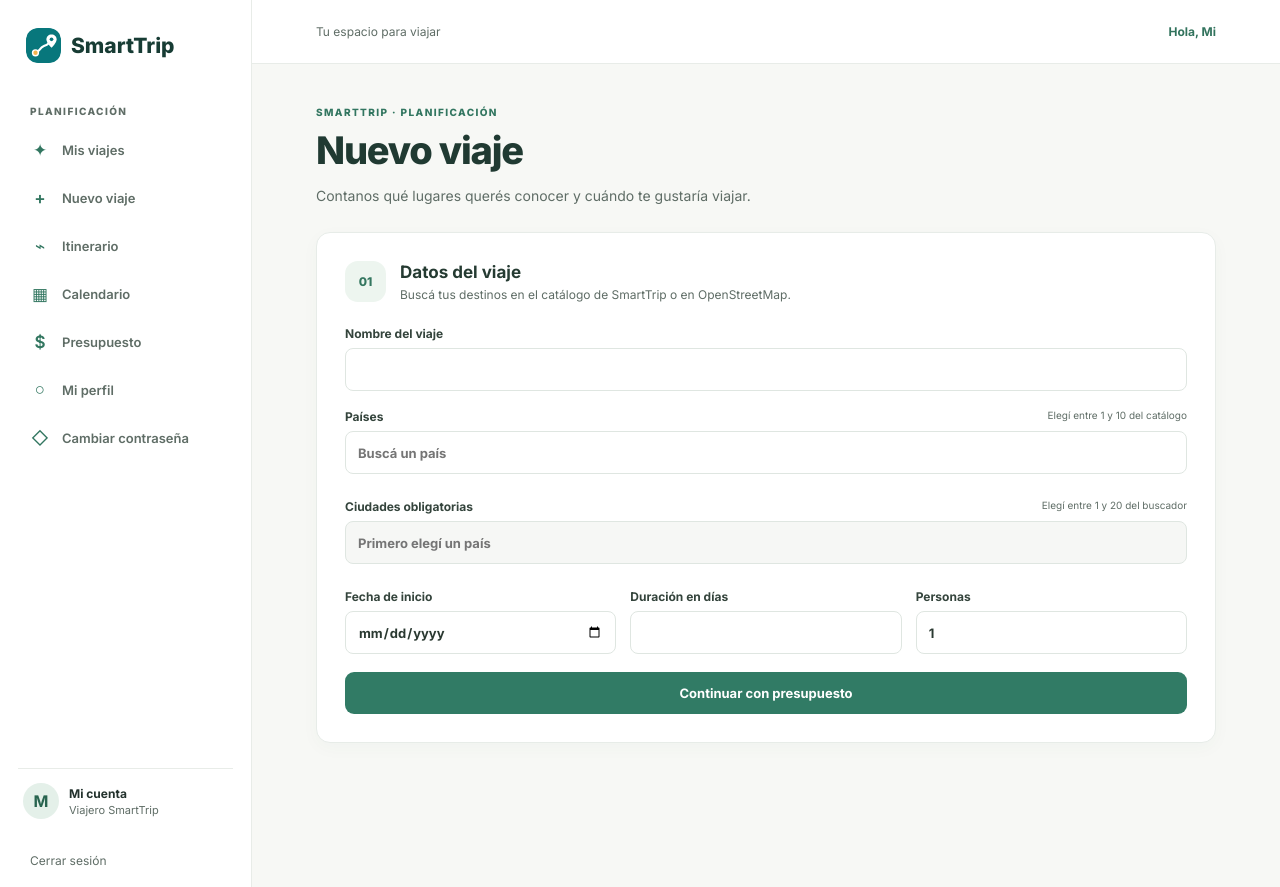
Scenario: NewTrip: validación y creación › no crea un viaje sin ciudades
The width and height of the screenshot is (1280, 887).
Type "Fra" into the field named "Buscar país" at (766, 452), box top-left (345, 431), bottom-right (1187, 474)
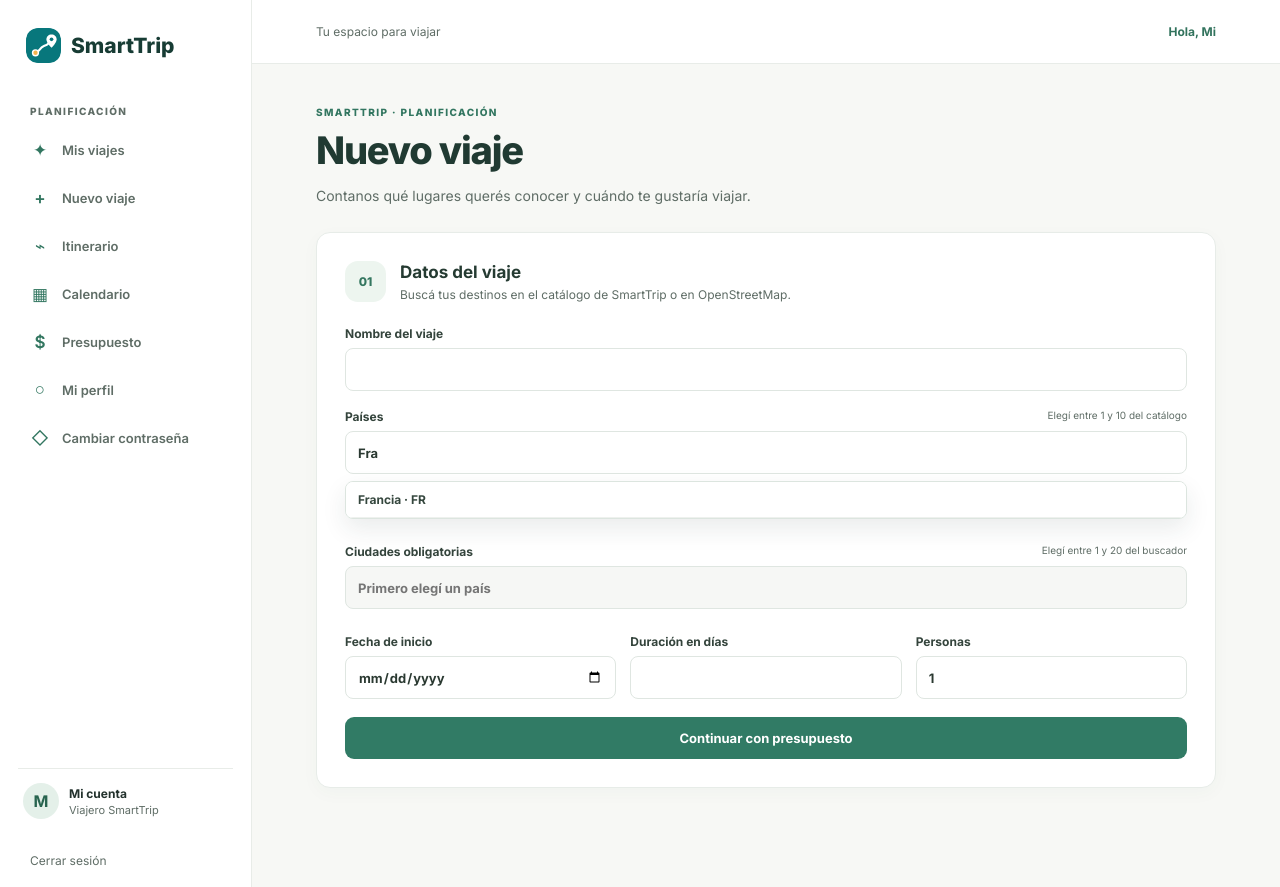
Click the option "Francia · FR" at (380, 500), box top-left (346, 482), bottom-right (1186, 518)
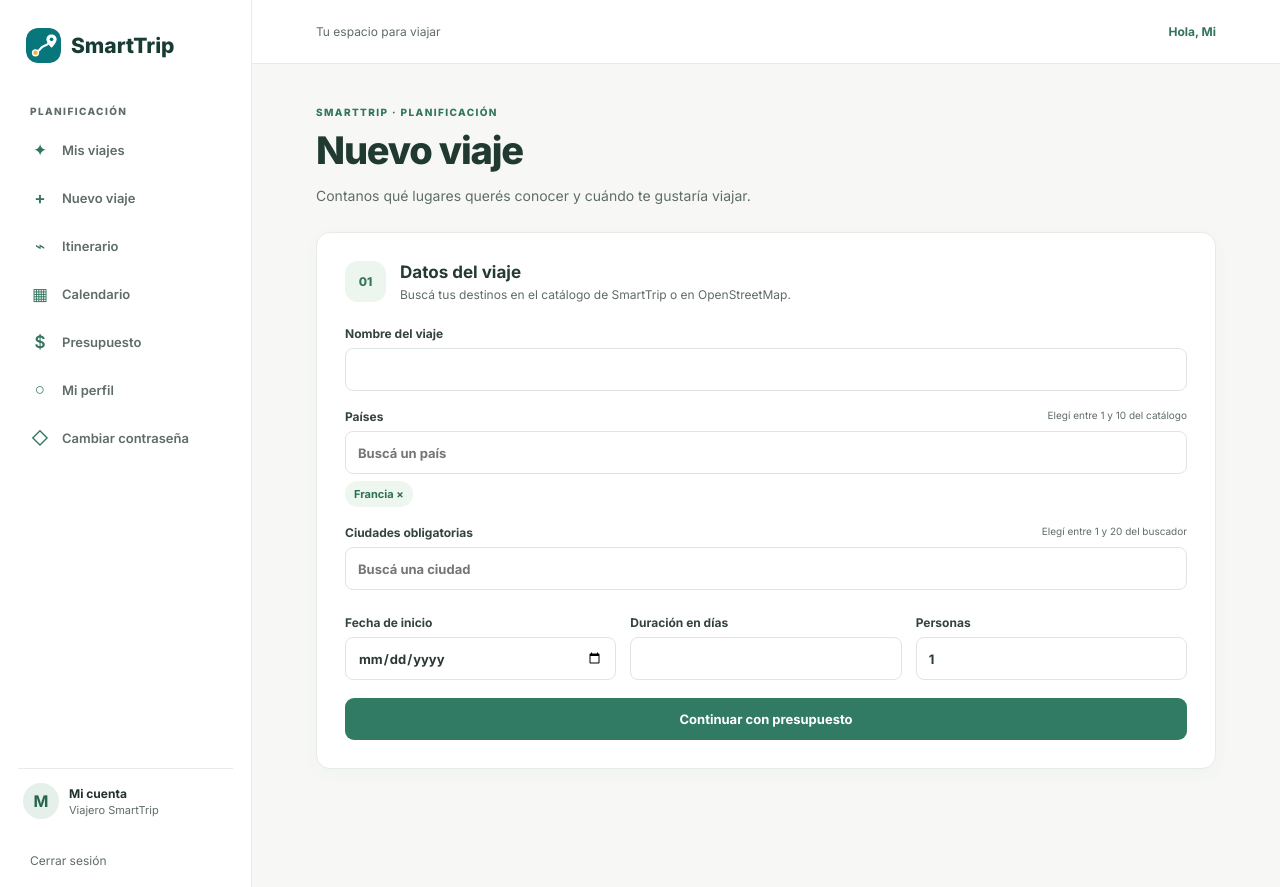
Type "  Europa  " into the field labelled "Nombre del viaje" at (766, 370), box top-left (345, 348), bottom-right (1187, 391)
Type "2030-05-01" into the date field labelled "Fecha de inicio" at (481, 658), box top-left (345, 637), bottom-right (616, 680)
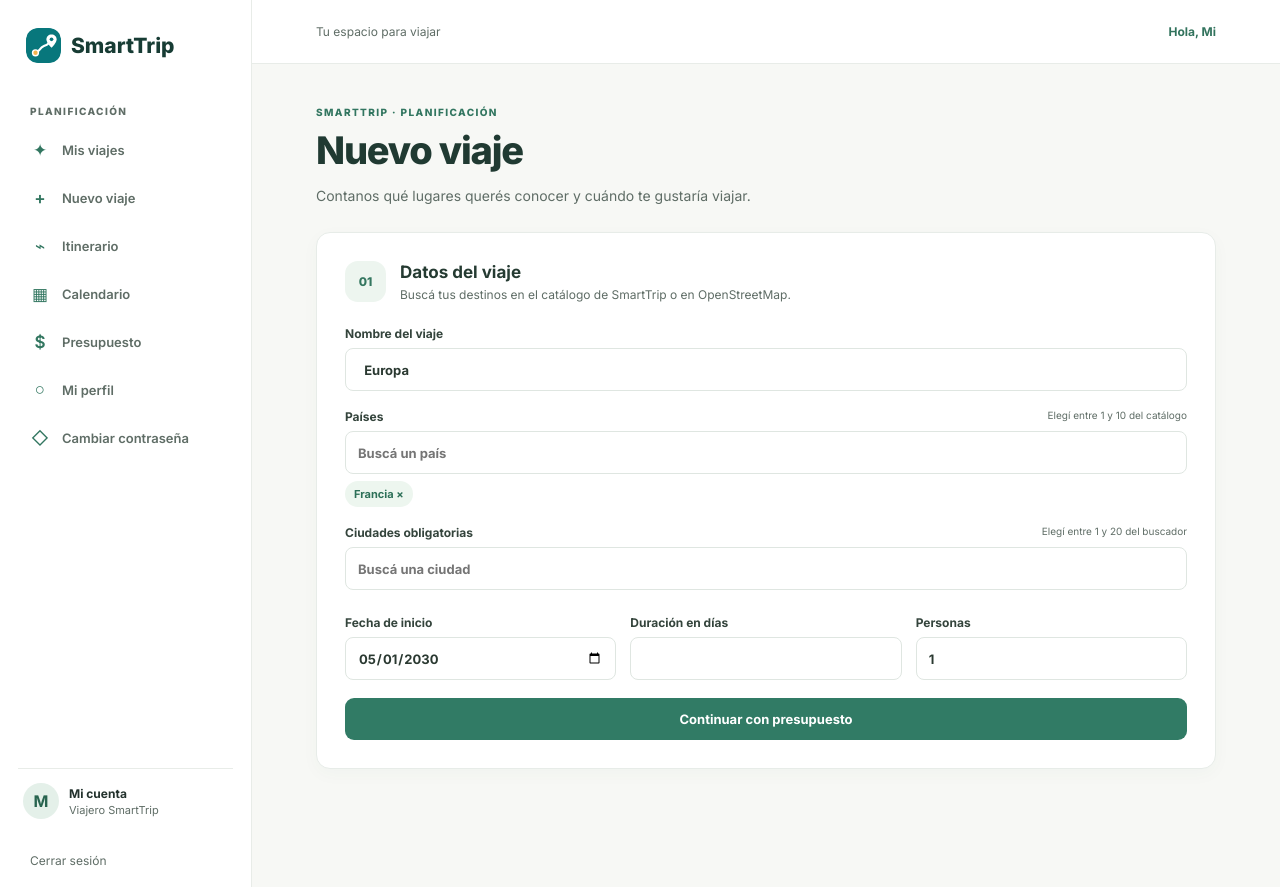
Type "5" into the number field labelled "Duración en días" at (766, 658), box top-left (630, 637), bottom-right (902, 680)
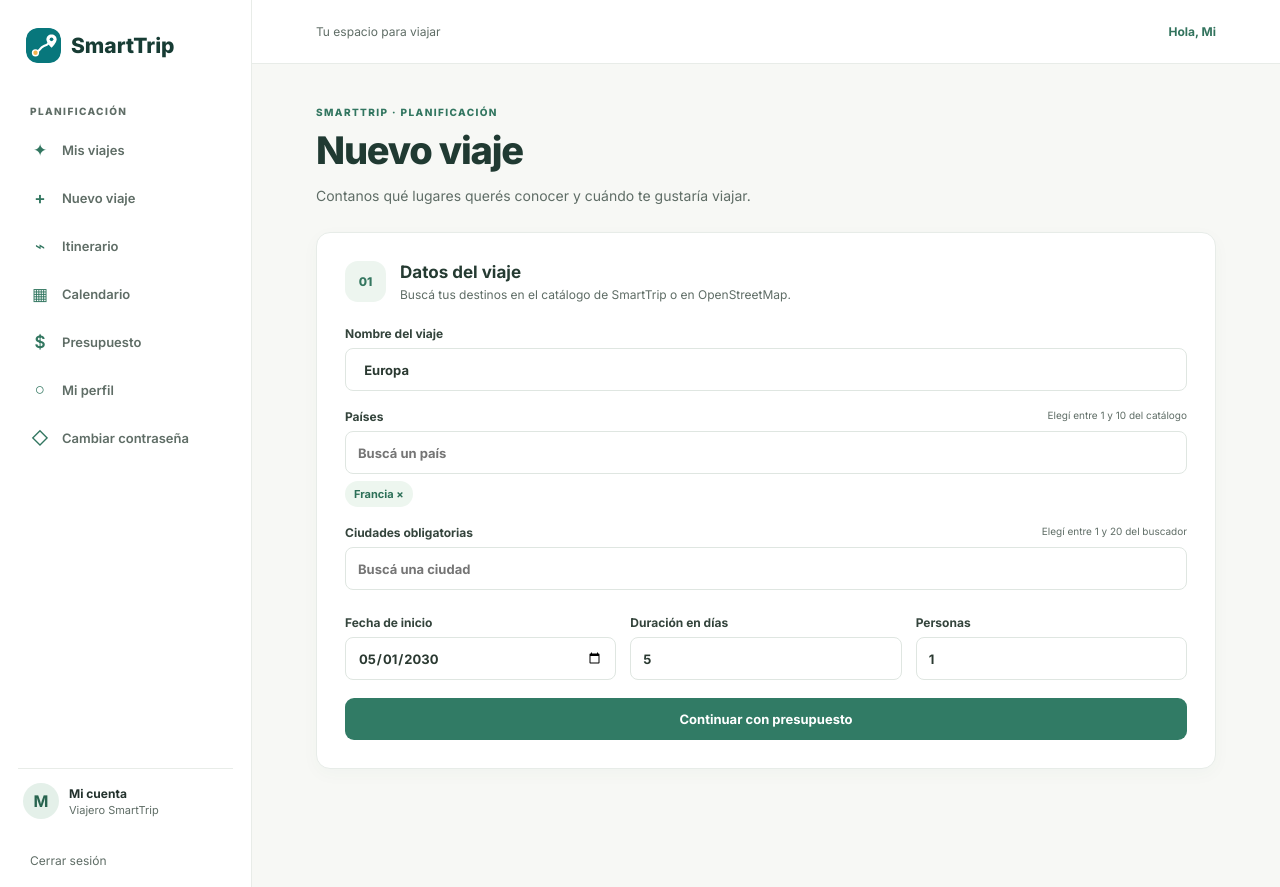
Replace the text in the number field labelled "Personas" with "3" at (1051, 658), box top-left (916, 637), bottom-right (1187, 680)
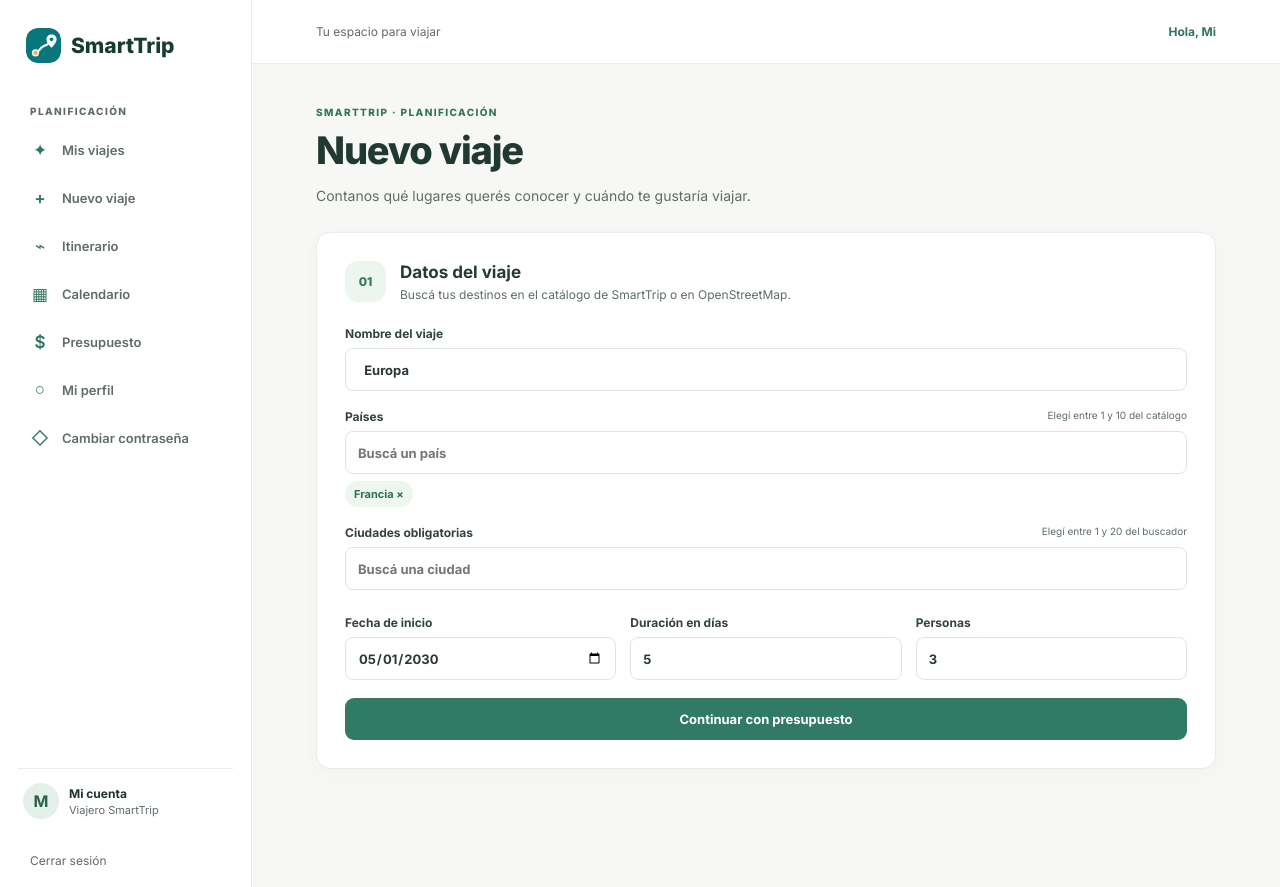
Submit the form with class "trip-form", box top-left (345, 326), bottom-right (1187, 740)
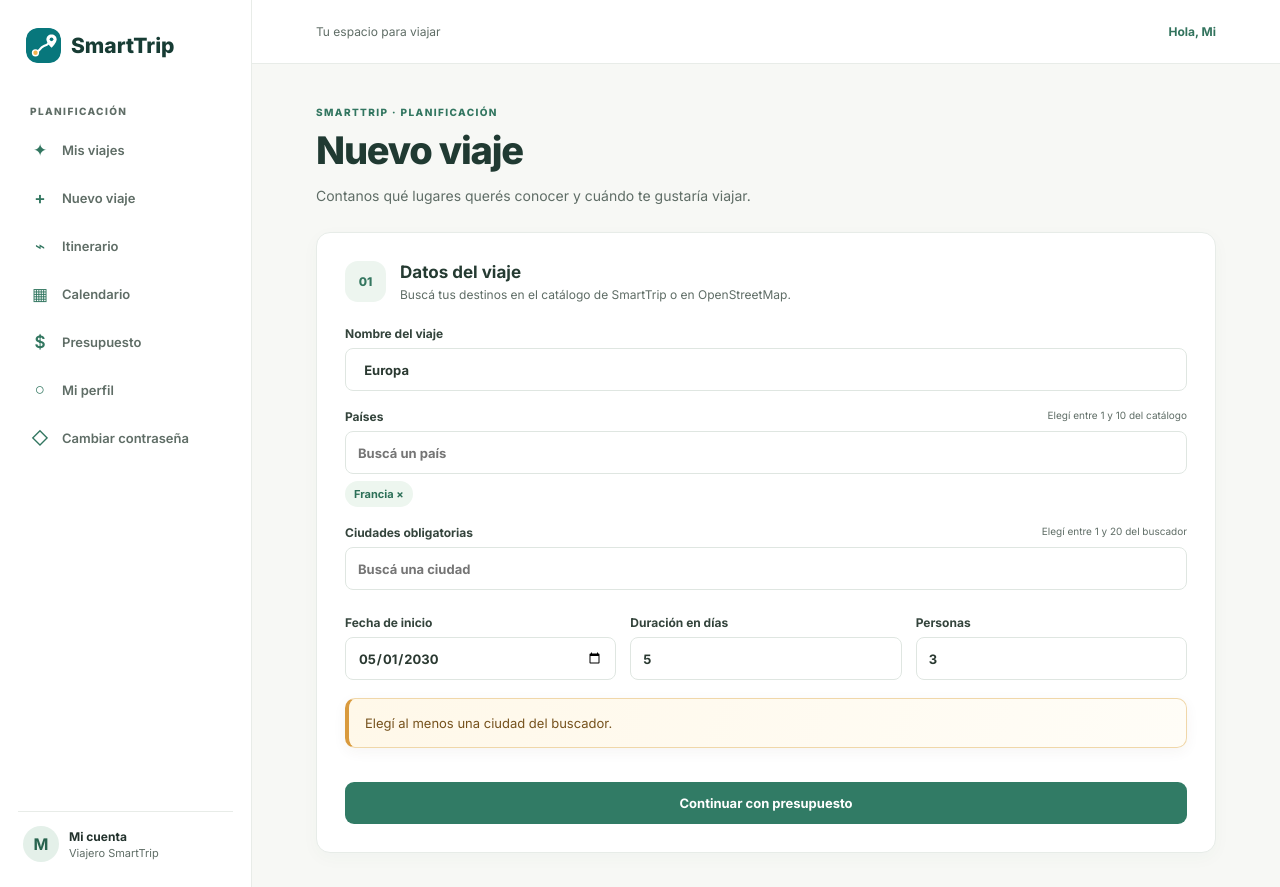
Expected: the message reads "Elegí al menos una ciudad del buscador.", top-left (365, 715), bottom-right (612, 731)
